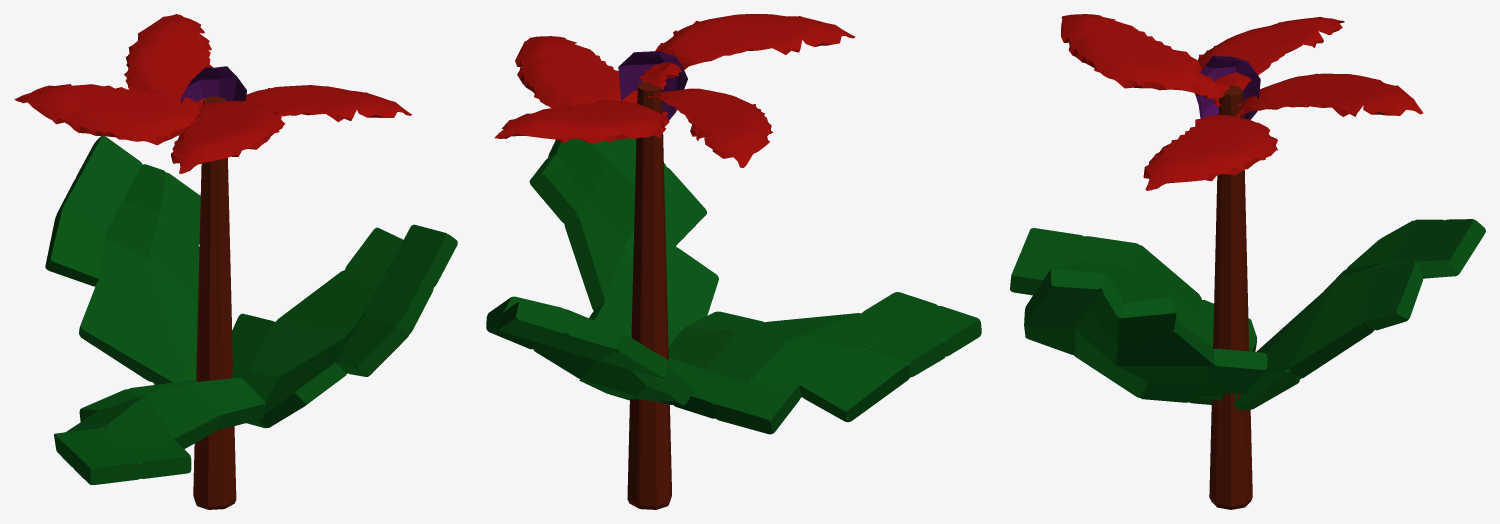
File: space_flower.glb
3 renders of one model, left to right at view 1: azimuth 30°, elevation 25°; view 2: azimuth 150°, elevation 25°; view 3: azimuth 270°, elevation 25°, orthographic. The views are drawn at different scales.
Parts seen in each view (by area): view 1: Plane.001, Plane.002, Plane, Cube, Plane.004, Plane.007, Plane.005, Plane.009, Plane.011; view 2: Plane, Plane.002, Cube, Plane.001, Plane.005, Plane.009, Plane.007, Plane.004, Plane.011; view 3: Plane.002, Plane.001, Cube, Plane, Plane.005, Plane.009, Plane.007, Plane.004, Plane.011.
Part boxes in pixels (bbox=[...]): Plane.001: bbox=[45, 136, 200, 384]; Plane.002: bbox=[231, 224, 457, 428]; Plane: bbox=[54, 378, 265, 484]; Cube: bbox=[193, 96, 236, 509]; Plane.004: bbox=[14, 84, 202, 145]; Plane.007: bbox=[124, 14, 212, 103]; Plane.005: bbox=[171, 100, 285, 173]; Plane.009: bbox=[245, 85, 412, 122]; Plane.011: bbox=[180, 66, 246, 103]; Plane: bbox=[660, 292, 981, 434]; Plane.002: bbox=[529, 138, 718, 404]; Cube: bbox=[627, 81, 671, 509]; Plane.001: bbox=[486, 296, 693, 406]; Plane.005: bbox=[640, 14, 855, 90]; Plane.009: bbox=[515, 36, 667, 116]; Plane.007: bbox=[494, 99, 669, 143]; Plane.004: bbox=[636, 88, 772, 167]; Plane.011: bbox=[618, 51, 687, 119]; Plane.002: bbox=[1024, 269, 1267, 404]; Plane.001: bbox=[1233, 219, 1485, 409]; Cube: bbox=[1209, 85, 1252, 509]; Plane: bbox=[1010, 228, 1256, 401]; Plane.005: bbox=[1061, 14, 1230, 98]; Plane.009: bbox=[1143, 114, 1277, 190]; Plane.007: bbox=[1235, 73, 1423, 117]; Plane.004: bbox=[1198, 17, 1344, 106]; Plane.011: bbox=[1195, 56, 1260, 119].
Bounding box in the file's own units: 4.1 × 4.51 × 4.35.
